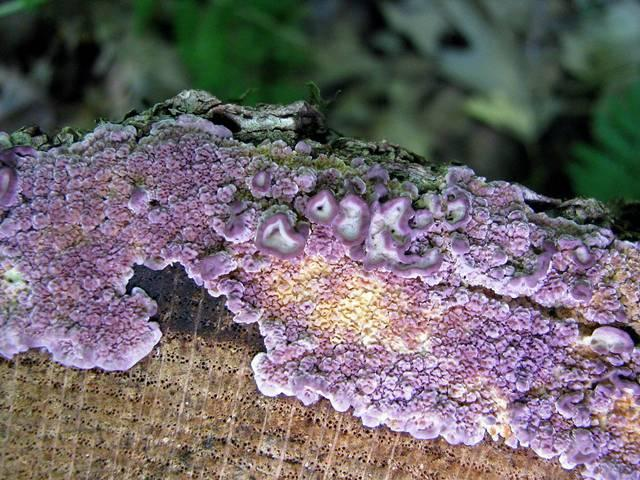Non-edible Mushroom: (0, 88, 639, 478)
